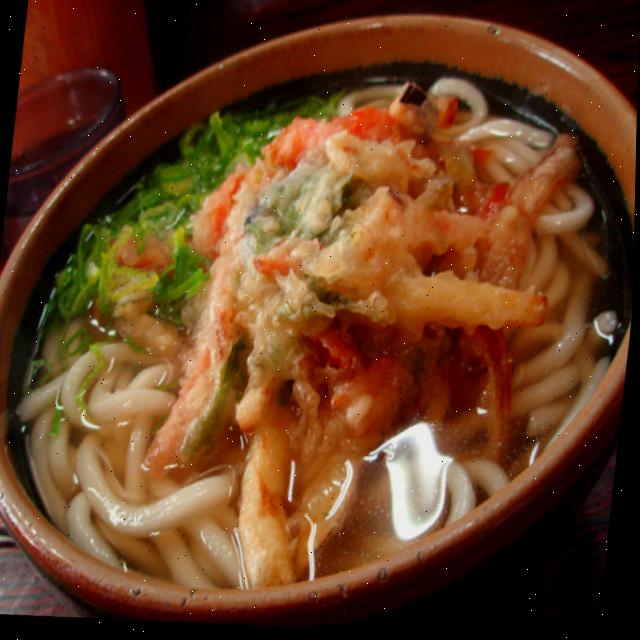面条主食: (0, 39, 639, 627)
